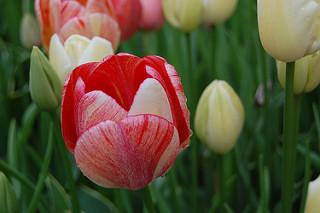tulip: (62, 52, 191, 190), (257, 0, 320, 62)
